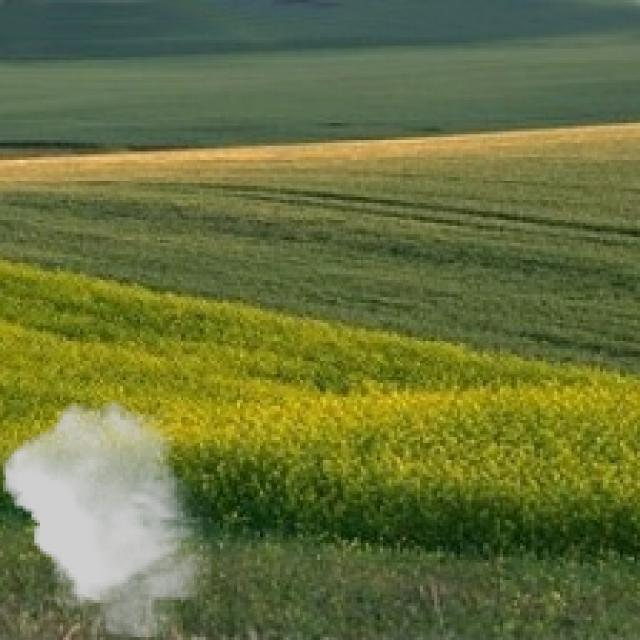smoke: (3, 400, 211, 637)
